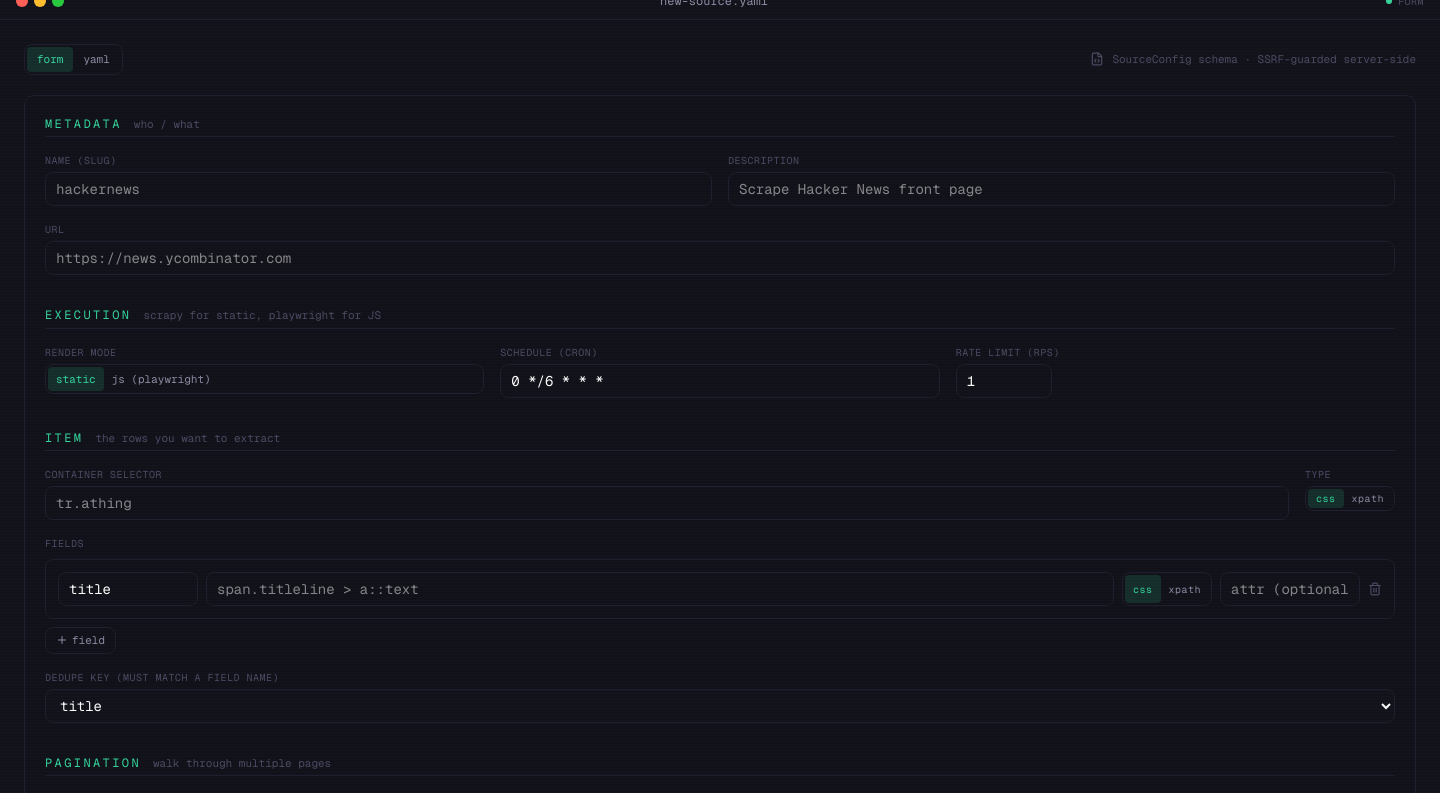
Test: SourceEditor (create mode) › renders 422 Pydantic issues inline
This screenshot has width=1440, height=793.
In the field with test id "name-input": (378, 189) x1=45 y1=172 x2=712 y2=206, type "my-source"
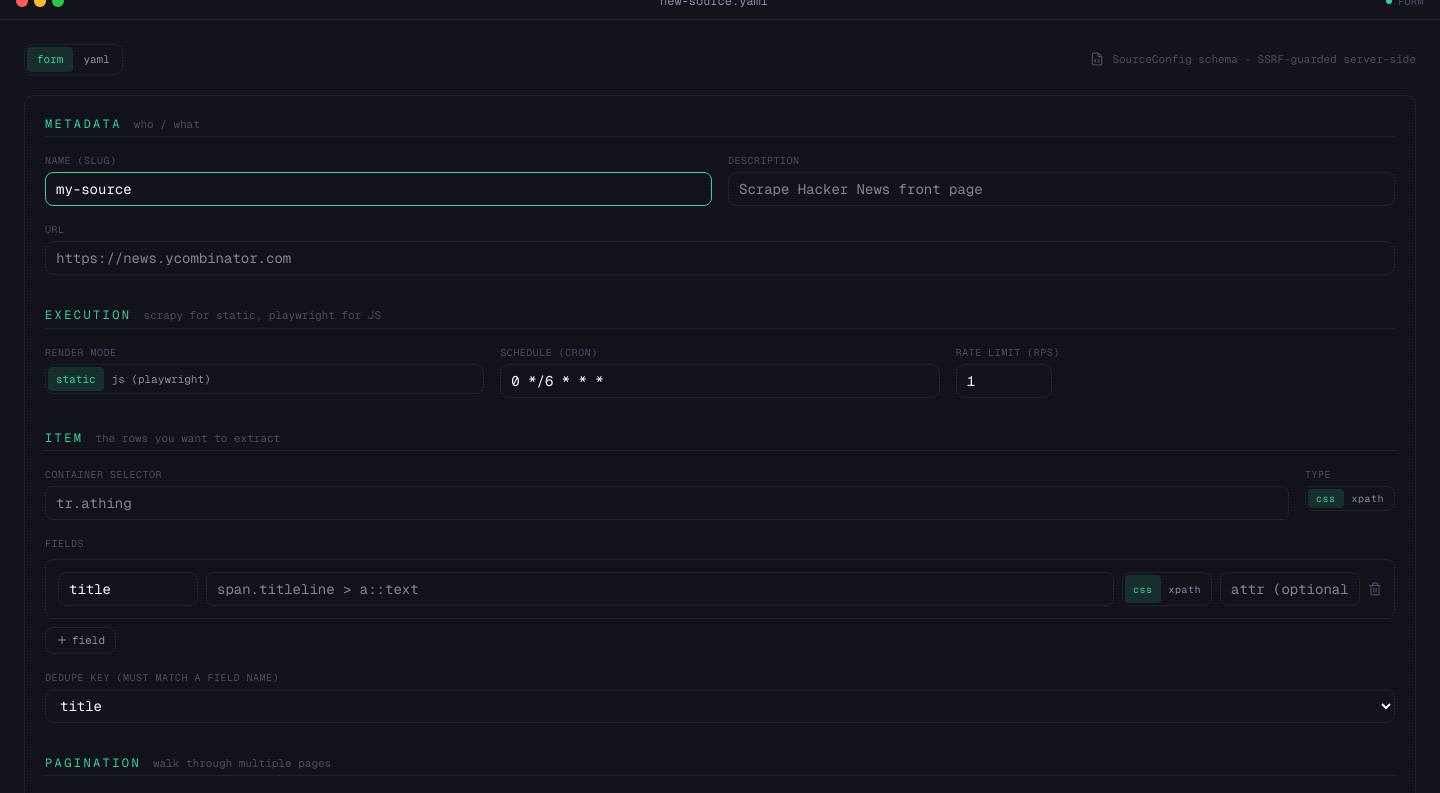
In the field with placeholder "https://news.ycombinator.com": (720, 258) x1=45 y1=241 x2=1395 y2=275, type "https://example.com"
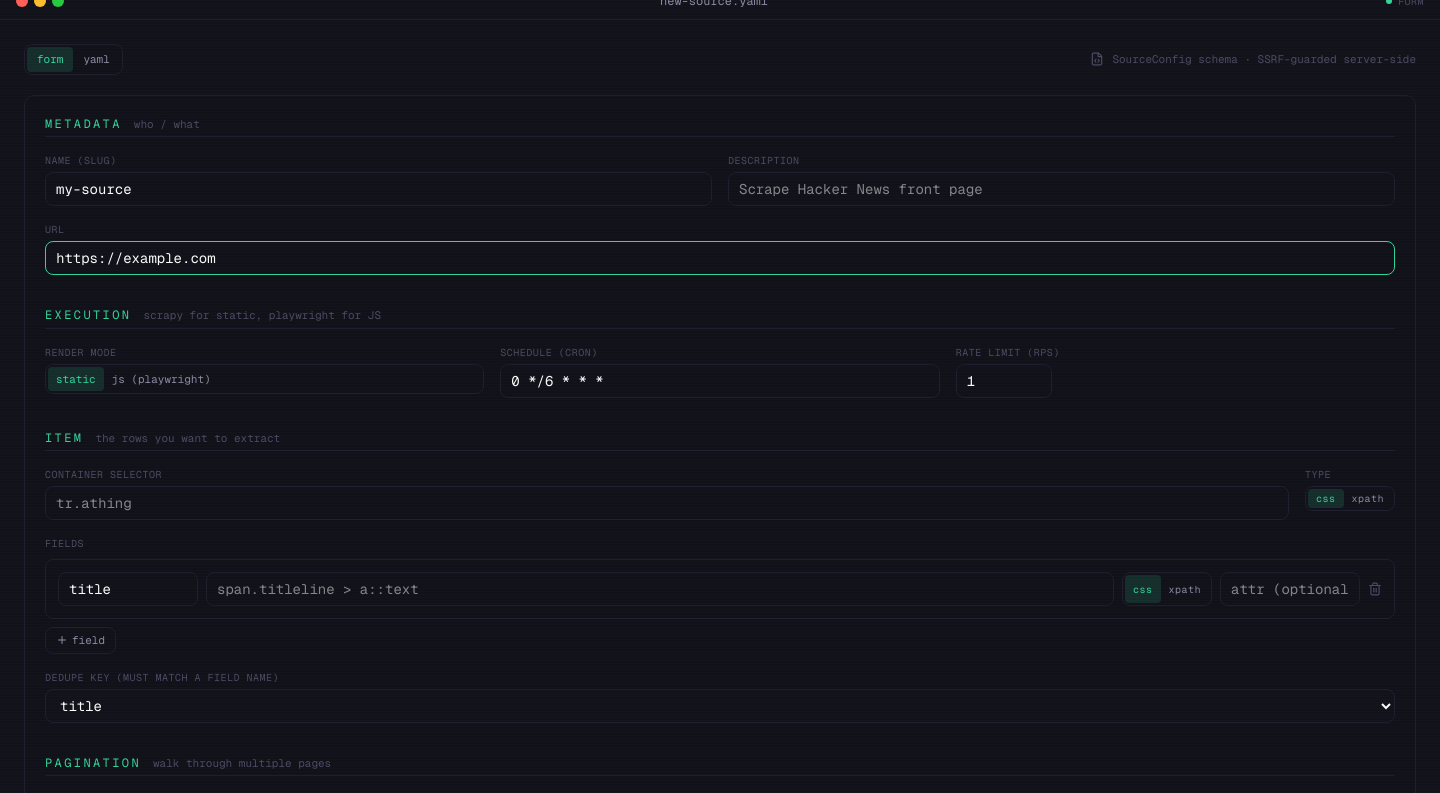
In the field with placeholder "tr.athing": (667, 503) x1=45 y1=486 x2=1289 y2=520, type "a"
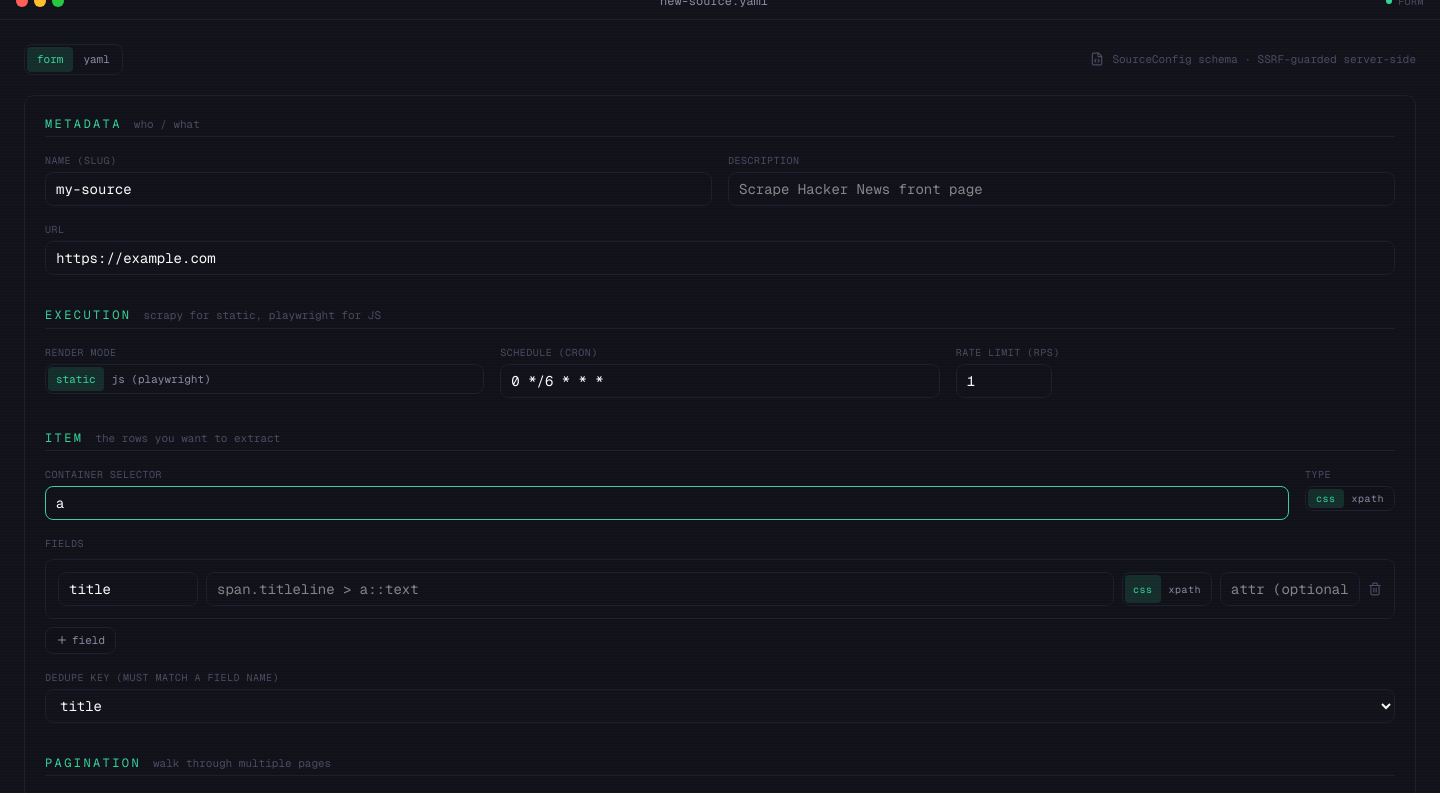
In the field with placeholder "span.titleline > a::text": (660, 589) x1=206 y1=572 x2=1114 y2=606, type "b"
(page scrolled)
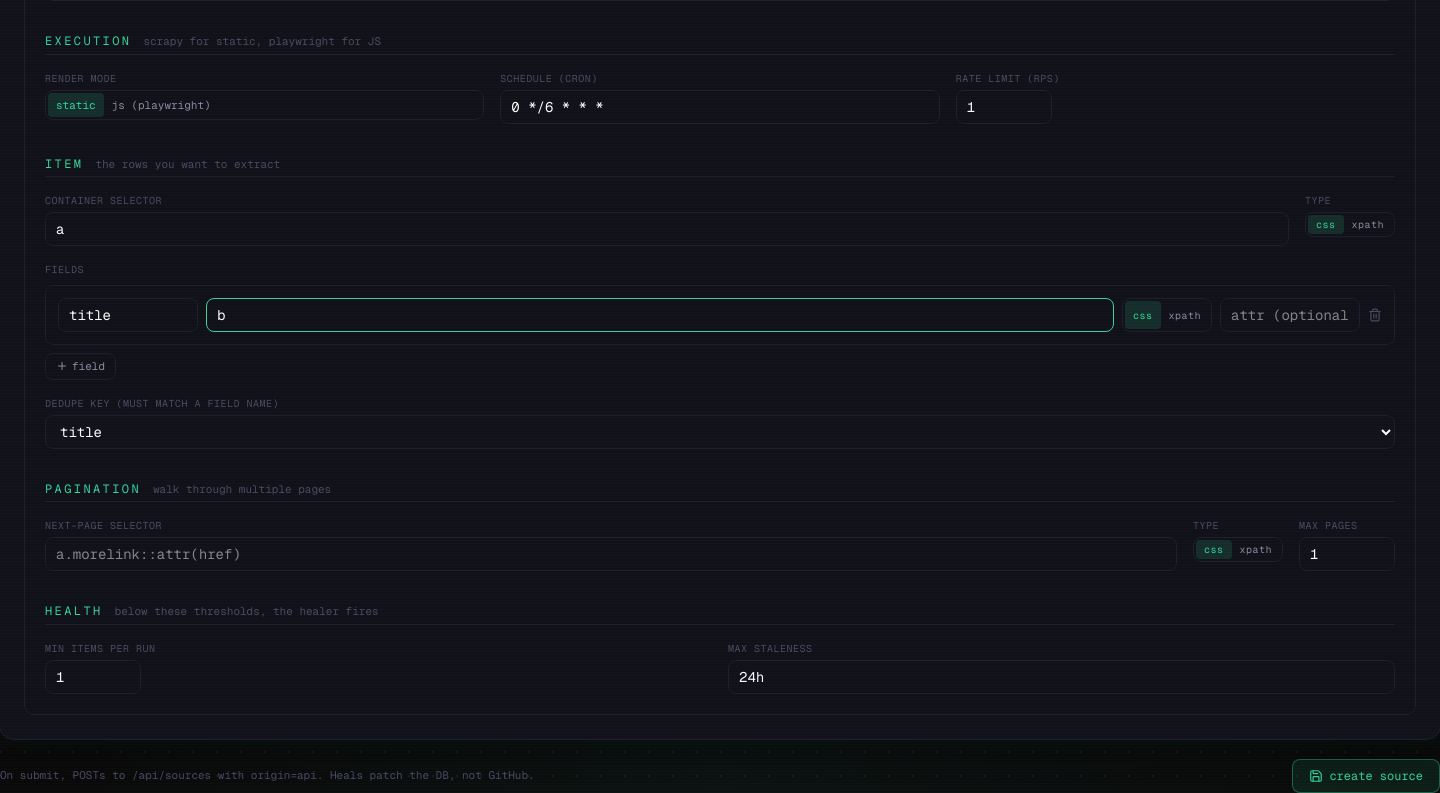
Click the button "create source": (1366, 776) x1=1292 y1=758 x2=1439 y2=792
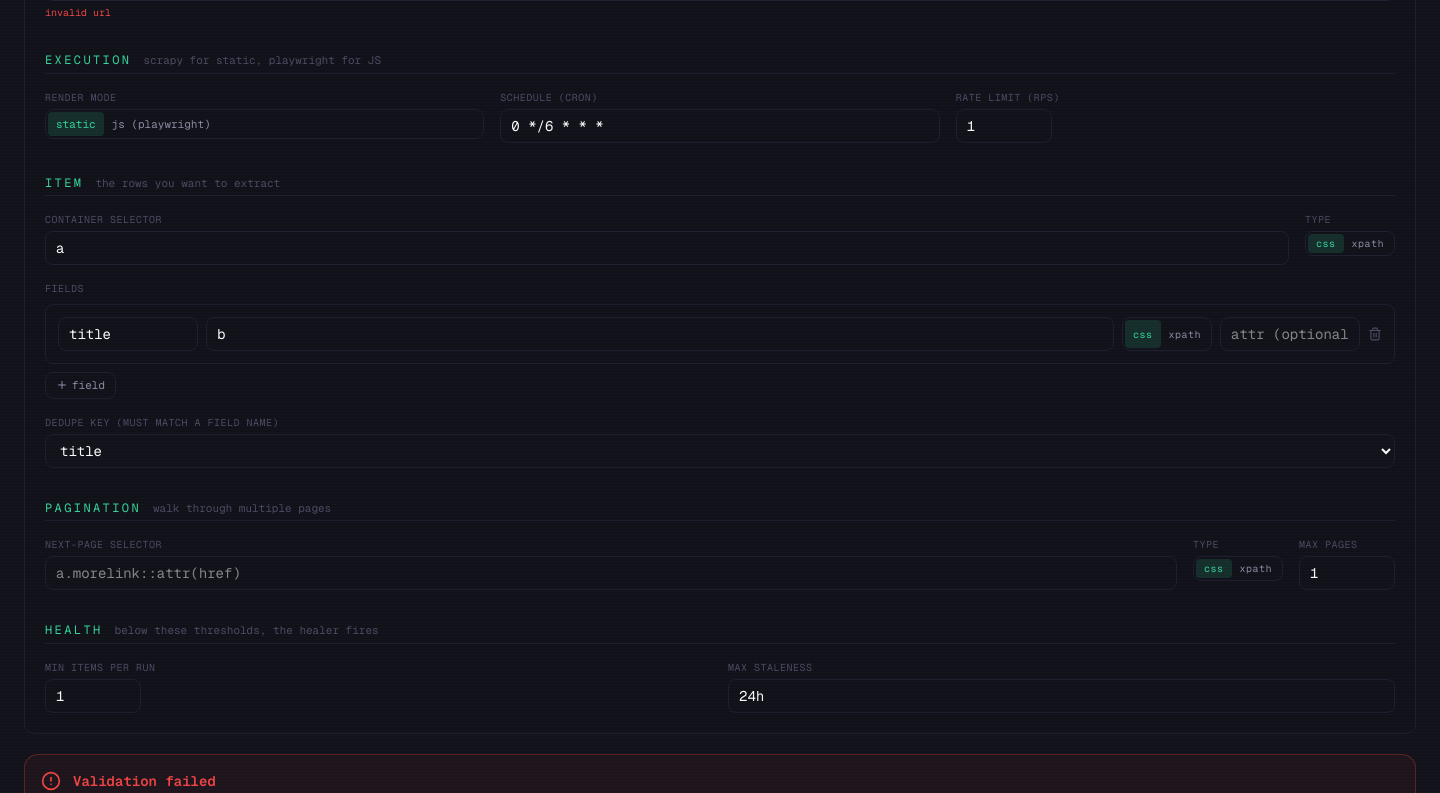
expect the text "Validation failed" is shown: met, box x1=73 y1=770 x2=216 y2=790
expect the text "invalid url" is shown: met, box x1=45 y1=6 x2=111 y2=19
